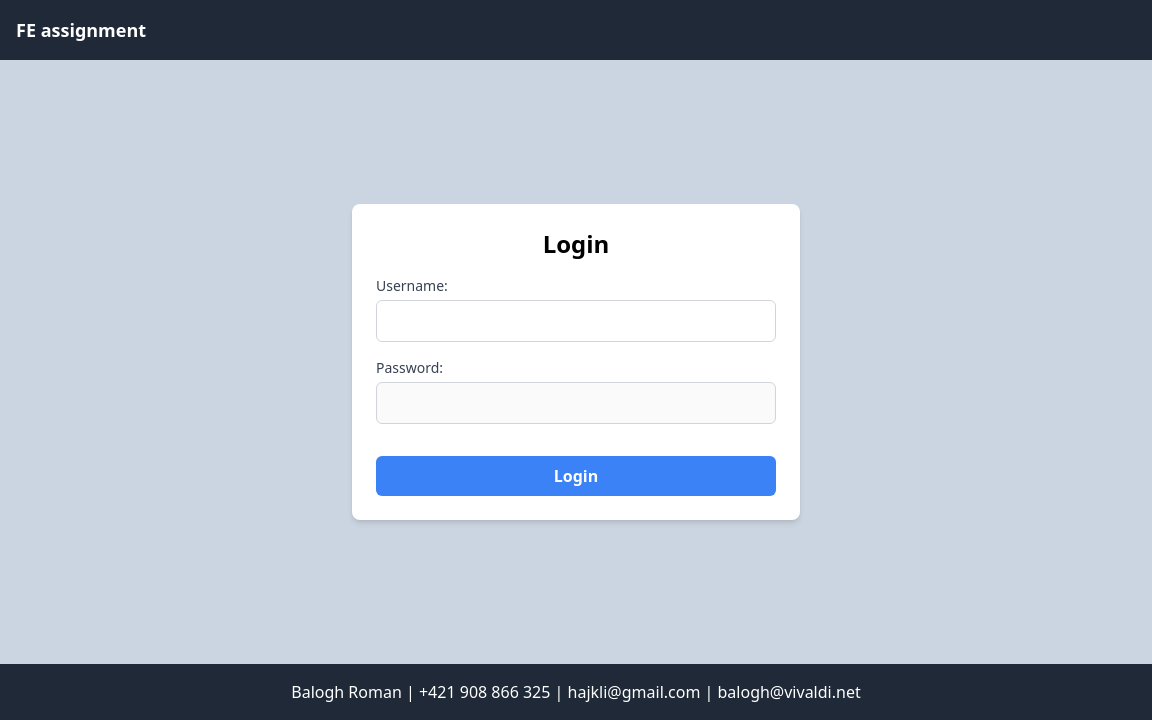
Test: Login Page › should display an error with invalid credentials
In the field with id "username": (576, 321) [376,300,776,342], type "a"
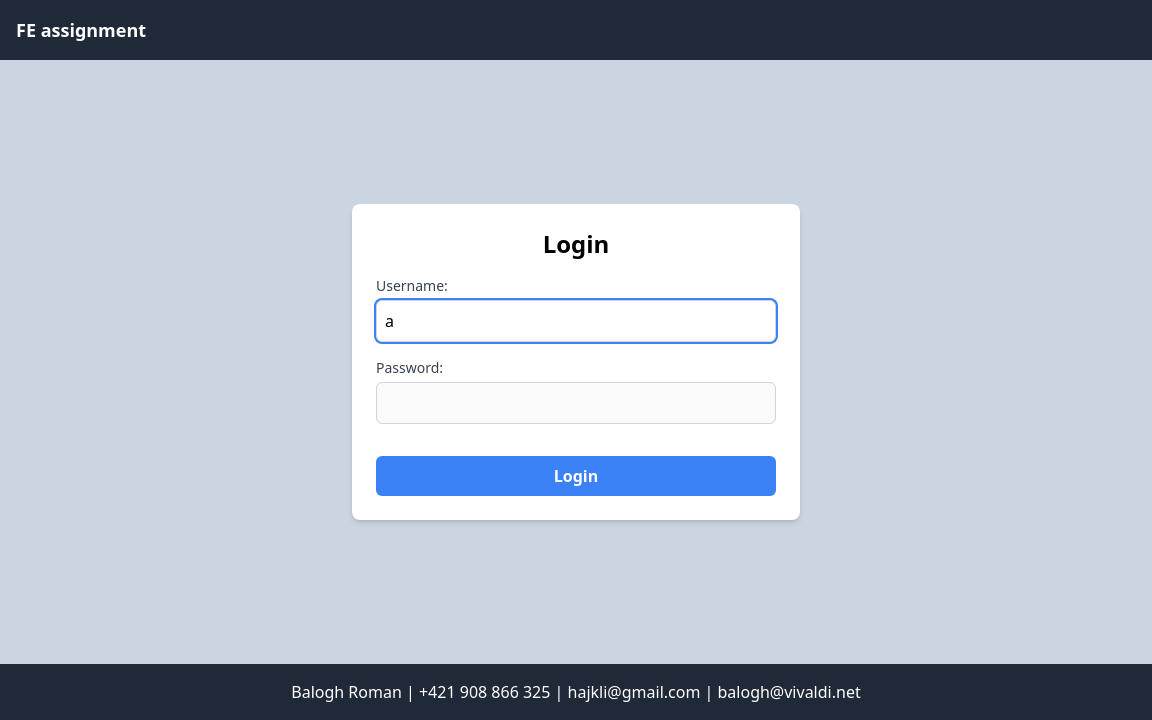
Click the button with id "login": (576, 476) [376,456,776,496]
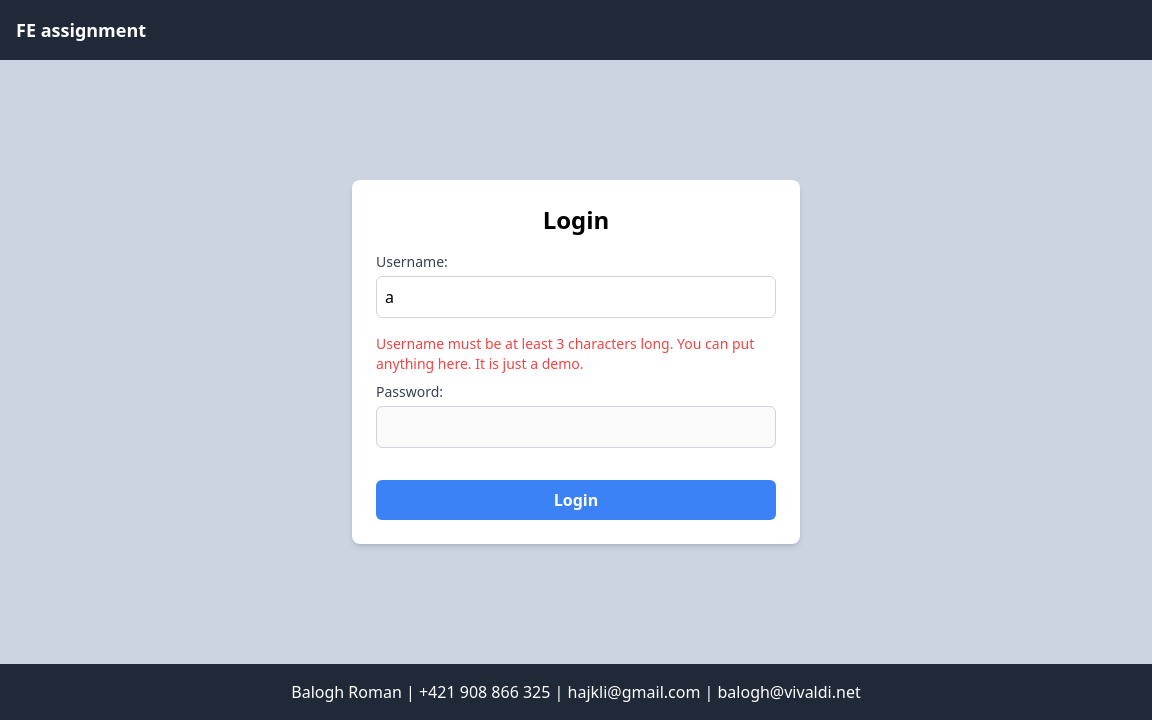
expect the text "Username must be at least 3 characters long" is shown: met, box [376,334,754,373]
